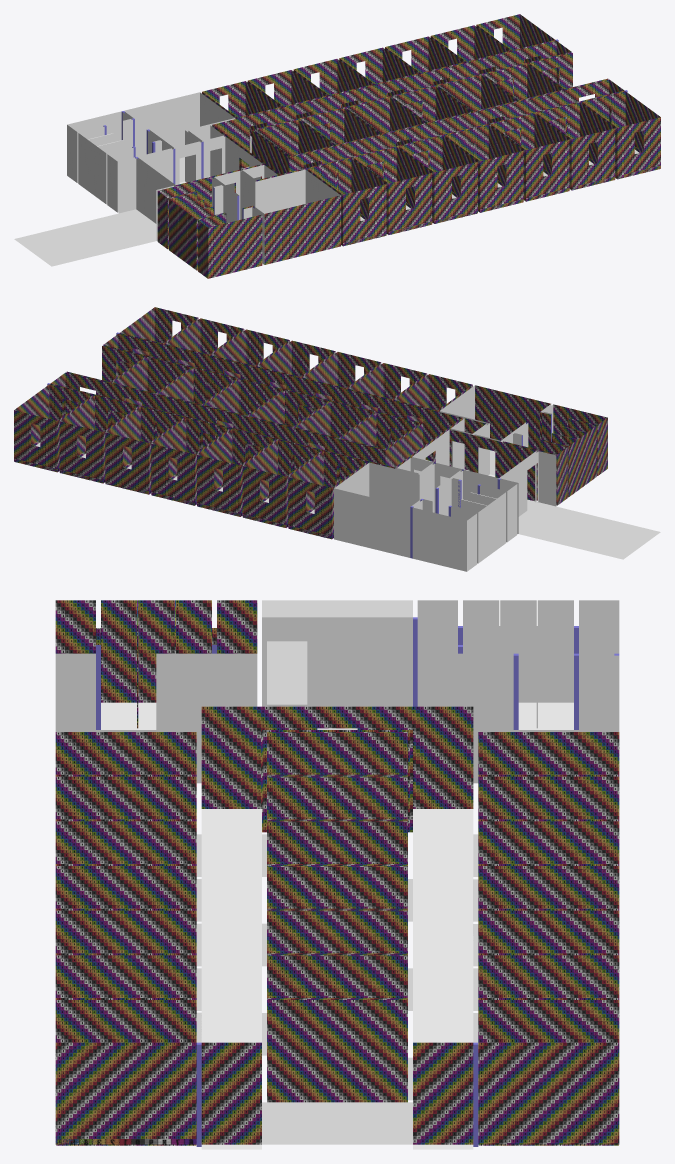
File: Building_TST_3t.glb
3 views of the same model, one above another, from view 1: azimuth 30°, elevation 25°; view 2: azimuth 150°, elevation 25°; view 3: azimuth 270°, elevation 25° (orthographic). The views are drawn at different scales.
Visible parts, largest first — view 1: Plane.608, Plane.668, Plane.490, Plane.502, Plane.509, Plane.504, Plane.495, Plane.788, Plane.497, Plane.634, Plane.399, Plane.401 (+50 smaller); view 2: Plane.668, Plane.386, Plane.388, Plane.380, Plane.378, Plane.382, Plane.384, Plane.390, Plane.608, Plane.612, Plane.395, Plane.436 (+49 smaller); view 3: Plane.390, Plane.788, Plane.599, Plane.575, Plane.645, Wall_1m.296, Wall_1m.311, Plane.495, Plane.504, Plane.380, Plane.386, Plane.559 (+54 smaller).
Boxes of the visible parts, left/top/right/bottom form: Plane.608: left=264, top=195, right=340, bottom=264; Plane.668: left=14, top=213, right=155, bottom=266; Plane.490: left=536, top=102, right=615, bottom=189; Plane.502: left=399, top=136, right=477, bottom=222; Plane.509: left=307, top=158, right=386, bottom=245; Plane.504: left=353, top=147, right=432, bottom=234; Plane.495: left=490, top=114, right=569, bottom=200; Plane.788: left=582, top=91, right=660, bottom=178; Plane.497: left=445, top=125, right=523, bottom=211; Plane.634: left=208, top=214, right=262, bottom=278; Plane.399: left=346, top=97, right=425, bottom=156; Plane.401: left=437, top=75, right=516, bottom=134; Plane.668: left=519, top=506, right=660, bottom=559; Plane.386: left=105, top=407, right=184, bottom=493; Plane.388: left=59, top=395, right=138, bottom=482; Plane.380: left=242, top=440, right=321, bottom=525; Plane.378: left=288, top=451, right=367, bottom=538; Plane.382: left=197, top=429, right=275, bottom=515; Plane.384: left=151, top=418, right=229, bottom=505; Plane.390: left=14, top=384, right=92, bottom=471; Plane.608: left=475, top=385, right=550, bottom=449; Plane.612: left=449, top=429, right=536, bottom=501; Plane.395: left=295, top=401, right=374, bottom=460; Plane.436: left=112, top=357, right=191, bottom=416; Plane.390: left=478, top=1000, right=619, bottom=1144; Plane.788: left=55, top=1000, right=196, bottom=1144; Plane.599: left=201, top=706, right=473, bottom=808; Plane.575: left=267, top=1000, right=407, bottom=1102; Plane.645: left=312, top=619, right=412, bottom=704; Wall_1m.296: left=101, top=600, right=211, bottom=702; Wall_1m.311: left=463, top=600, right=573, bottom=702; Plane.495: left=55, top=910, right=196, bottom=955; Plane.504: left=55, top=776, right=196, bottom=821; Plane.380: left=478, top=776, right=619, bottom=821; Plane.386: left=478, top=910, right=619, bottom=955; Plane.559: left=262, top=1102, right=412, bottom=1144.
Size of the model in its own units: 32.23 by 2.83 by 13.98.
3 materials, 1 textured.
